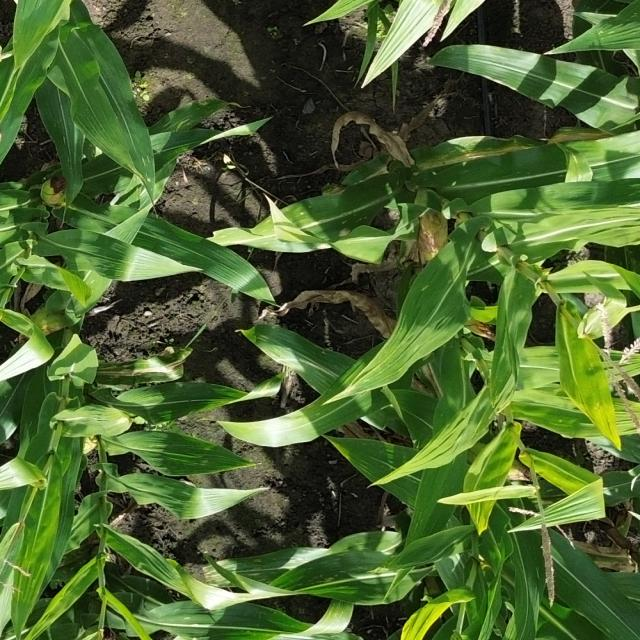gray-leaf-spot: (258, 212, 348, 248), (140, 436, 218, 474), (202, 554, 284, 590), (347, 441, 408, 485), (298, 552, 372, 588), (48, 114, 92, 170), (597, 8, 640, 36), (130, 147, 161, 185), (160, 114, 206, 135)
northern-leaf-blight: (413, 139, 545, 171), (99, 358, 182, 386)
southern-leaf-blight: (245, 603, 304, 640)
